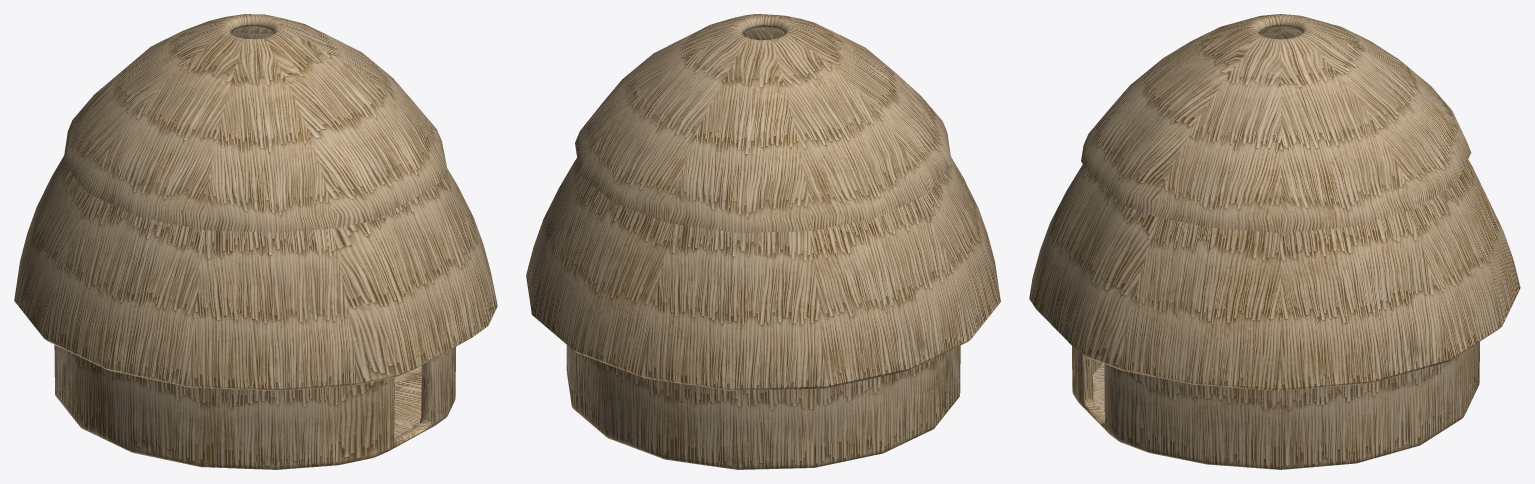
File: hut.glb
3 views of the same model, side by side, from view 1: azimuth 30°, elevation 25°; view 2: azimuth 150°, elevation 25°; view 3: azimuth 270°, elevation 25° (orthographic).
Visible parts, largest first — view 1: Cube_0; view 2: Cube_0; view 3: Cube_0.
Part boxes in pixels (x1,y1,x2,y2): Cube_0: [14, 14, 497, 469]; Cube_0: [526, 14, 1000, 469]; Cube_0: [1029, 14, 1520, 469].
Bounding box in the file's own units: 7.48 × 6.2 × 7.67.
Materials: 1 (1 with a texture image).
